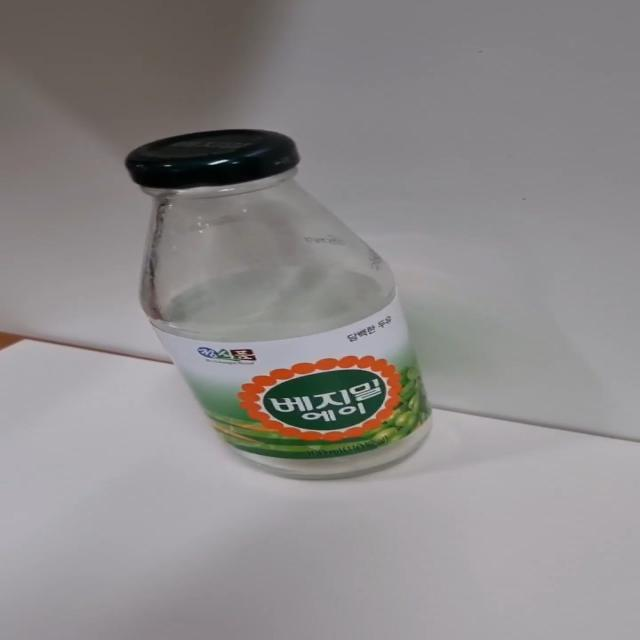Glass: (123, 129, 433, 482)
